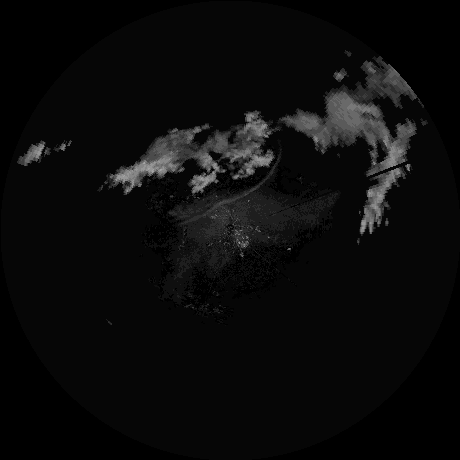frontgust: (177, 152, 282, 225)
